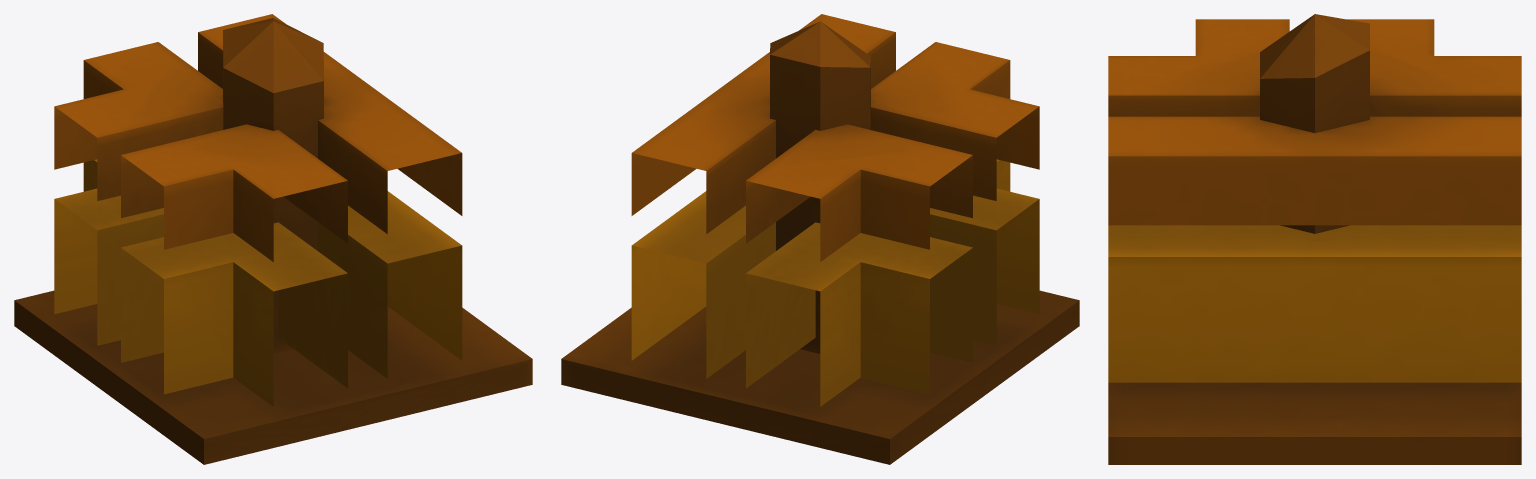
File: BarriereBois_T.FBX
3 views of the same model, side by side, from view 1: azimuth 30°, elevation 25°; view 2: azimuth 150°, elevation 25°; view 3: azimuth 270°, elevation 25° (orthographic). The views are drawn at different scales.
Visible parts, largest first — view 1: BarriereBois_T; view 2: BarriereBois_T; view 3: BarriereBois_T.
Part boxes in pixels (box(x1,y1,x2,y2)): BarriereBois_T: box(14, 14, 532, 464); BarriereBois_T: box(561, 14, 1079, 464); BarriereBois_T: box(1108, 14, 1521, 464).
Bounding box in the file's own units: 1 × 0.9713 × 1.
